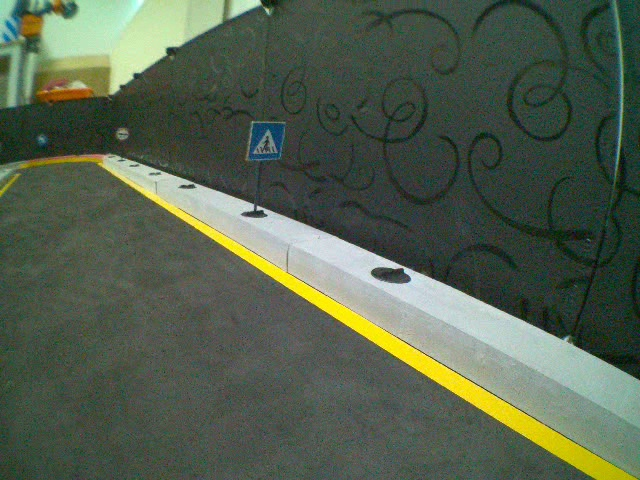crossing: (245, 118, 285, 161)
